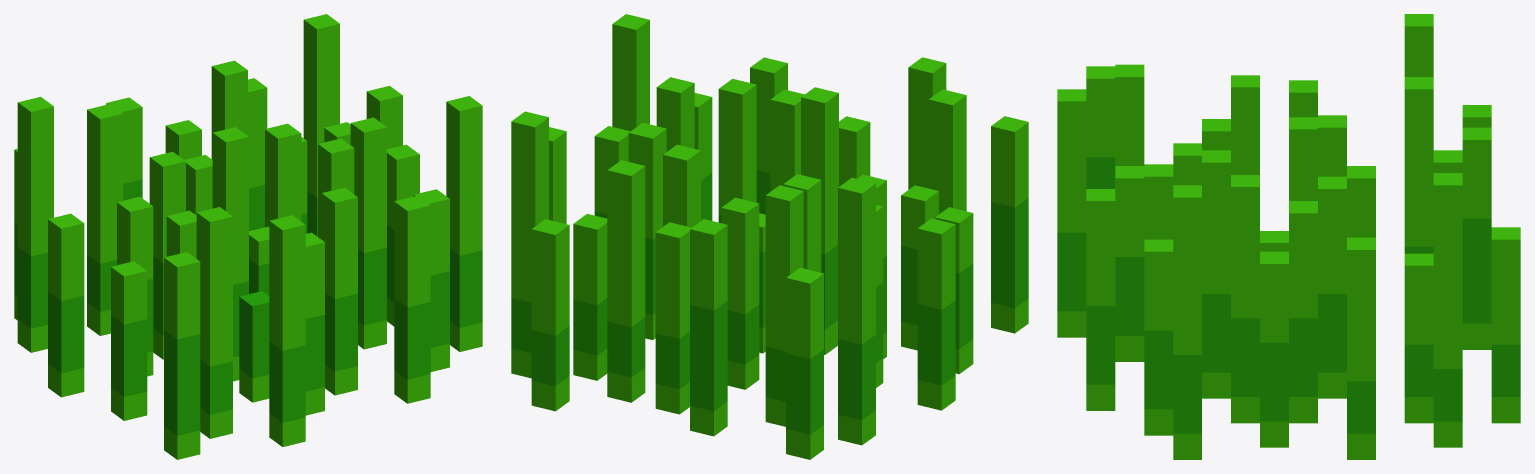
Rendered from grass_0.fbx.
The picture shows the model from 3 angles, left to right: view 1: azimuth 30°, elevation 25°; view 2: azimuth 150°, elevation 25°; view 3: azimuth 270°, elevation 25°; orthographic projection. The views are drawn at different scales.
Visible parts, largest first — view 1: grass_0; view 2: grass_0; view 3: grass_0.
Boxes of the visible parts, x1,y1,x2,y2 form: grass_0: (14,14,482,459); grass_0: (511,14,1028,459); grass_0: (1057,14,1520,459).
Bounding box in the file's own units: 160 × 100 × 160.
Materials: 1 (1 with a texture image).
